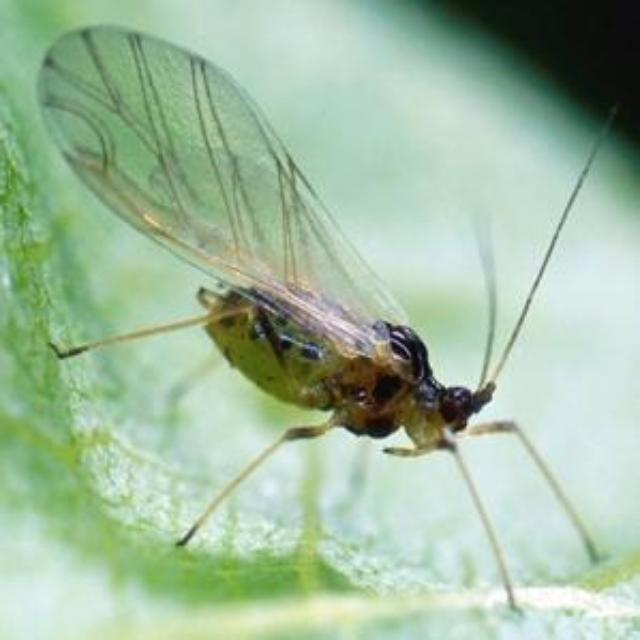Green peach aphid: (17, 19, 610, 598)
